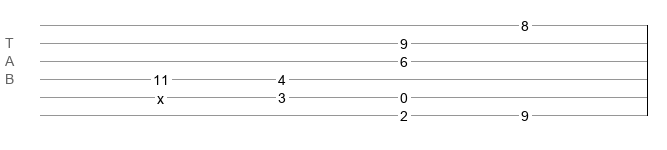0: (400, 90, 408, 100)
11: (153, 72, 169, 82)
2: (400, 108, 408, 118)
3: (278, 90, 286, 100)
4: (278, 72, 286, 82)
6: (400, 54, 408, 64)
8: (521, 18, 529, 28)
9: (400, 36, 408, 46), (521, 108, 529, 118)
x: (157, 91, 164, 99)
